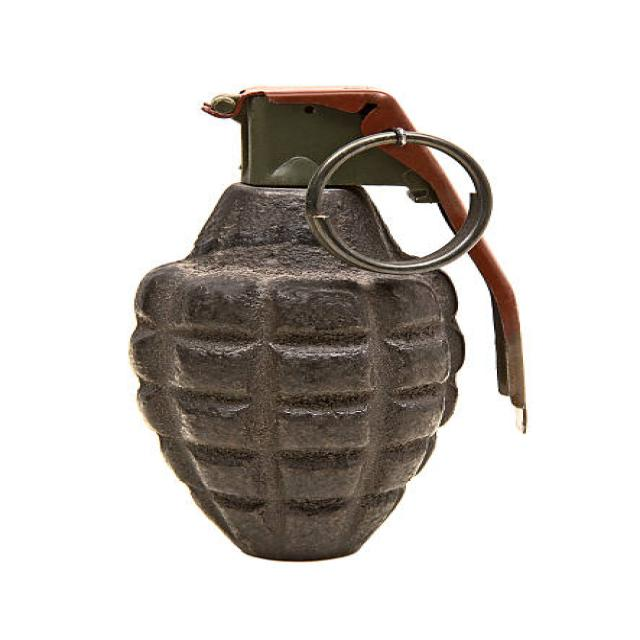grenade: (109, 72, 550, 566)
